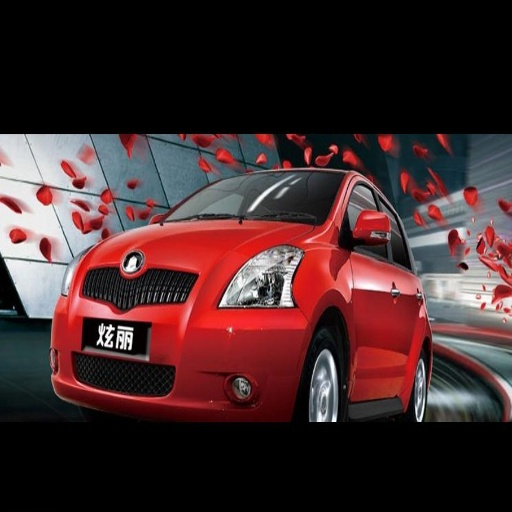back_left_door: (378, 192, 416, 387)
front_bumper: (55, 252, 311, 419)
front_glass: (214, 170, 345, 225)
front_left_door: (341, 176, 398, 397)
trunk: (75, 249, 155, 316)
